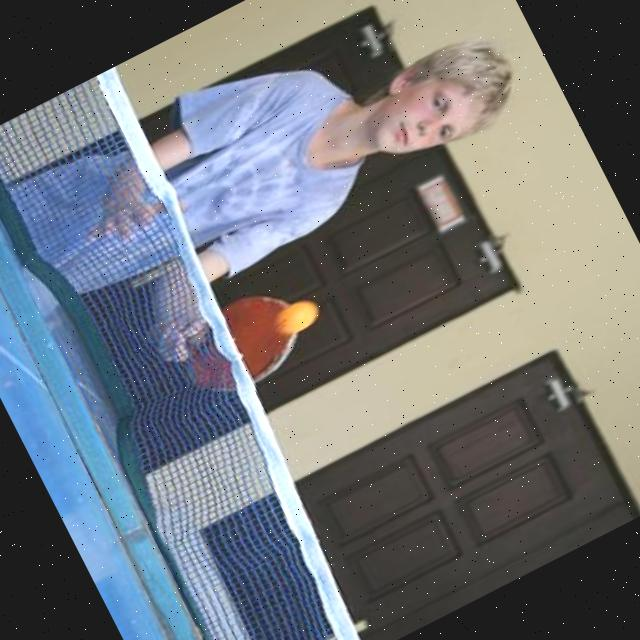ping-pong-ball: (262, 290, 328, 344)
